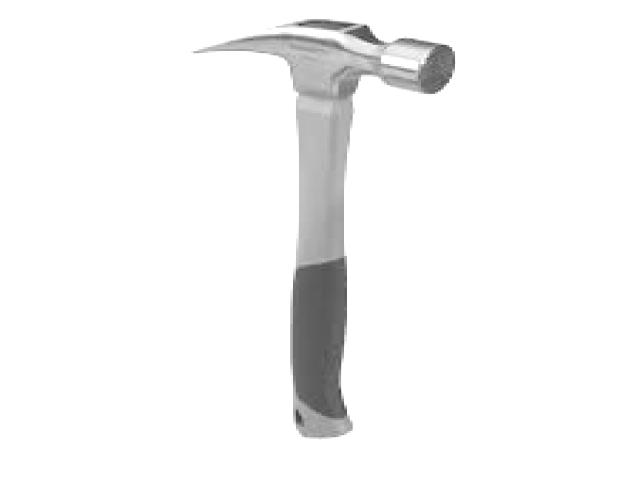Hammer: (196, 20, 455, 437)
